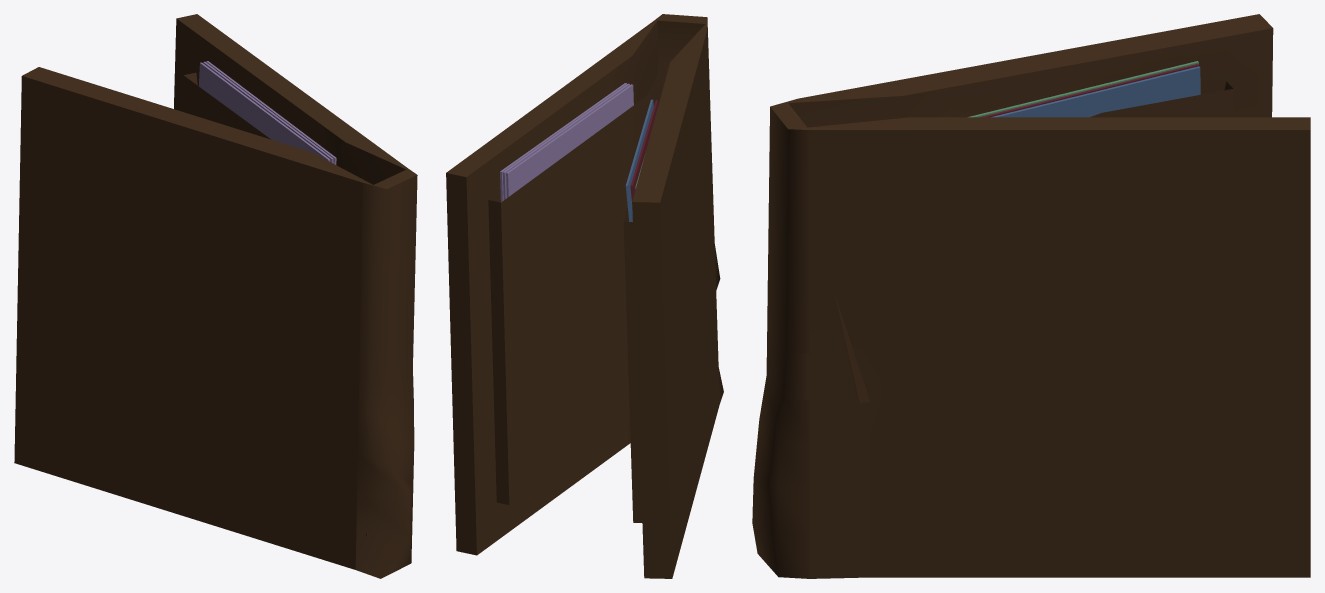
The model's file is wallet.fbx.
The picture shows the model from 3 angles, left to right: view 1: azimuth 30°, elevation 25°; view 2: azimuth 150°, elevation 25°; view 3: azimuth 270°, elevation 25°; orthographic projection. The views are drawn at different scales.
Parts seen in each view (by area): view 1: sweep2; view 2: sweep2; view 3: sweep2.
Boxes of the visible parts, x1=… form: sweep2: x1=14, y1=14, x2=417, y2=578; sweep2: x1=446, y1=14, x2=723, y2=578; sweep2: x1=752, y1=14, x2=1310, y2=578.
Bounding box in the file's own units: 0.5645 × 1 × 1.11.
